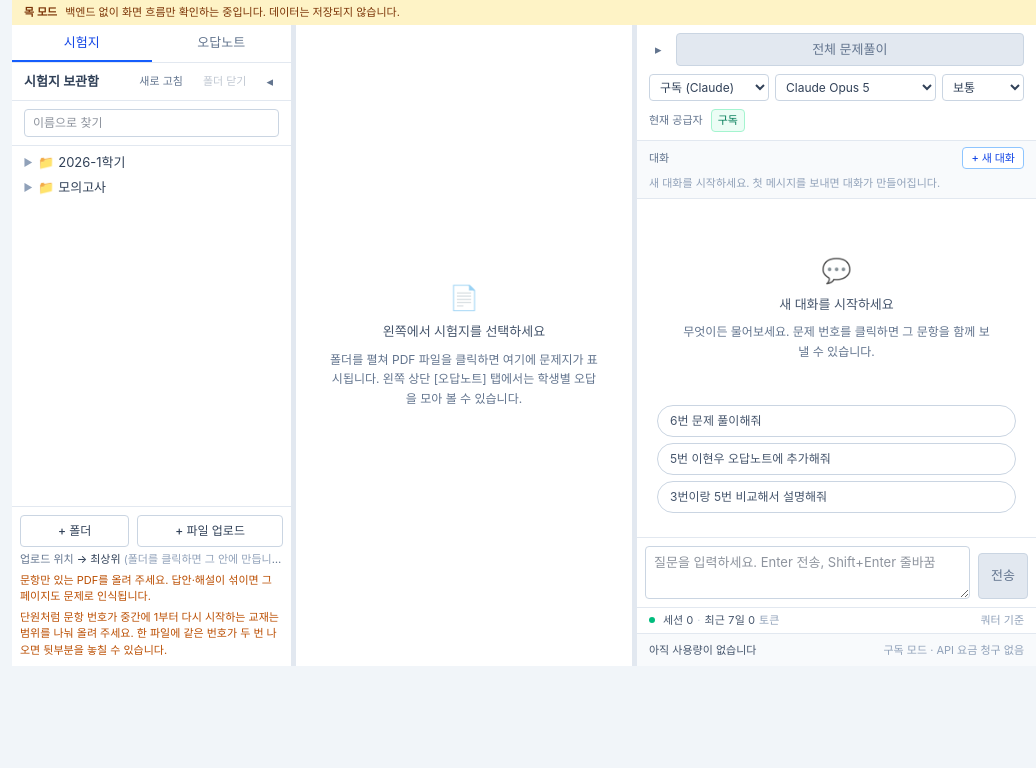
Test: 좌측 트리 이름 검색 › 일치가 없으면 빈 상태를 낸다
Expected: the text "2026-1학기" is shown, [58,154,126,170]
Type "없는이름" into the search field named "시험지 이름 검색" at coordinates (152, 122), box [24,108,279,136]
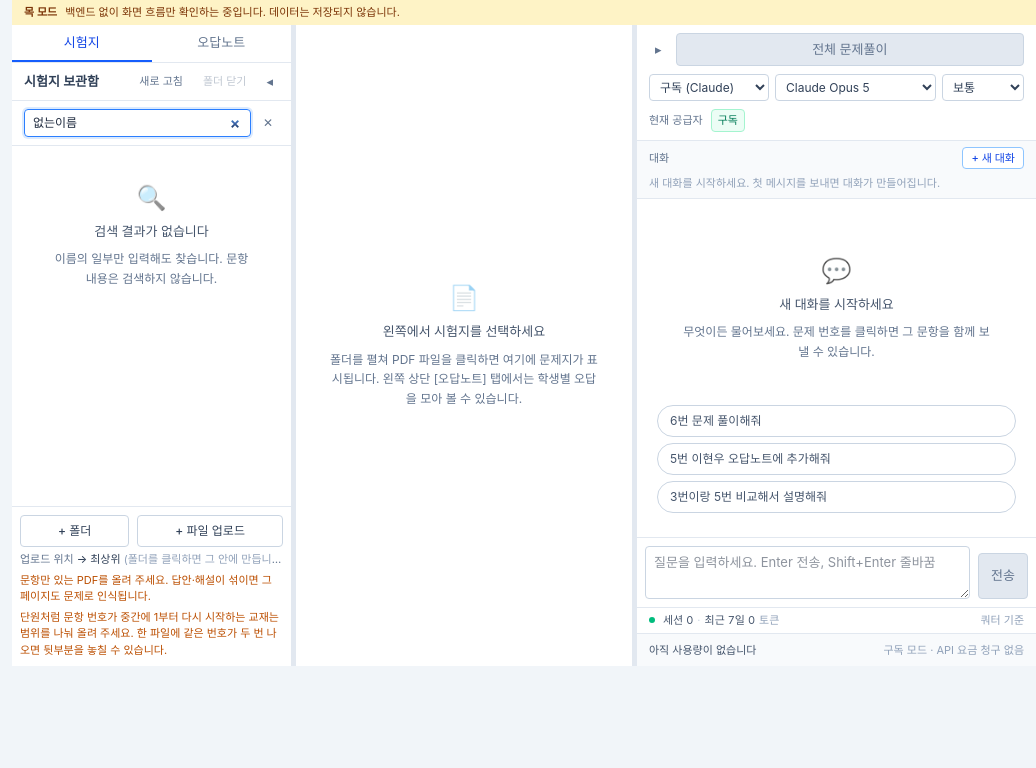
Expected: the text "검색 결과가 없습니다" is shown, [94,222,209,241]
